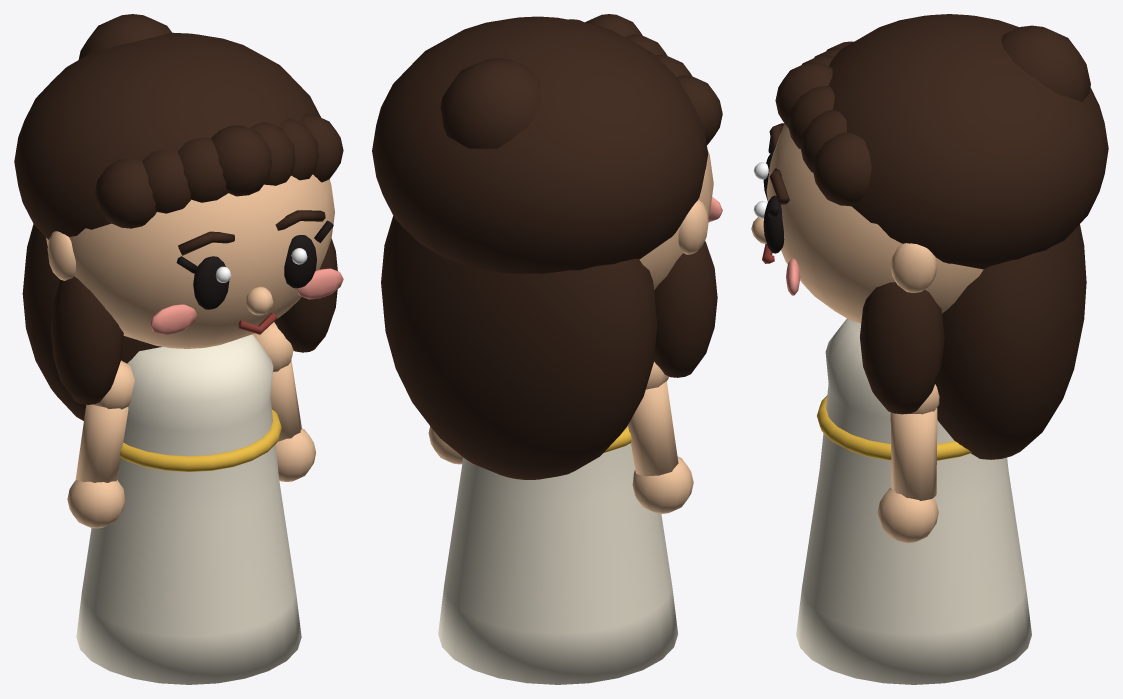
The model's file is prisioneira.glb.
3 views of the same model, side by side, from view 1: azimuth 30°, elevation 25°; view 2: azimuth 150°, elevation 25°; view 3: azimuth 270°, elevation 25° (orthographic). The views are drawn at different scales.
Visible parts, largest first — view 1: CabecaMalha, Corpo, BracoDMalha, BracoEMalha; view 2: CabecaMalha, Corpo, BracoDMalha, BracoEMalha; view 3: CabecaMalha, Corpo, BracoEMalha.
Boxes of the visible parts, bbox=[...] form: CabecaMalha: bbox=[14, 14, 343, 420]; Corpo: bbox=[76, 334, 301, 684]; BracoDMalha: bbox=[67, 360, 134, 528]; BracoEMalha: bbox=[252, 322, 315, 481]; CabecaMalha: bbox=[372, 14, 722, 479]; Corpo: bbox=[438, 425, 677, 684]; BracoDMalha: bbox=[628, 362, 693, 513]; BracoEMalha: bbox=[428, 426, 462, 464]; CabecaMalha: bbox=[751, 14, 1108, 459]; Corpo: bbox=[796, 318, 1031, 684]; BracoEMalha: bbox=[877, 384, 939, 543].
Size of the model in its own units: 0.567 by 1.16 by 0.606.
